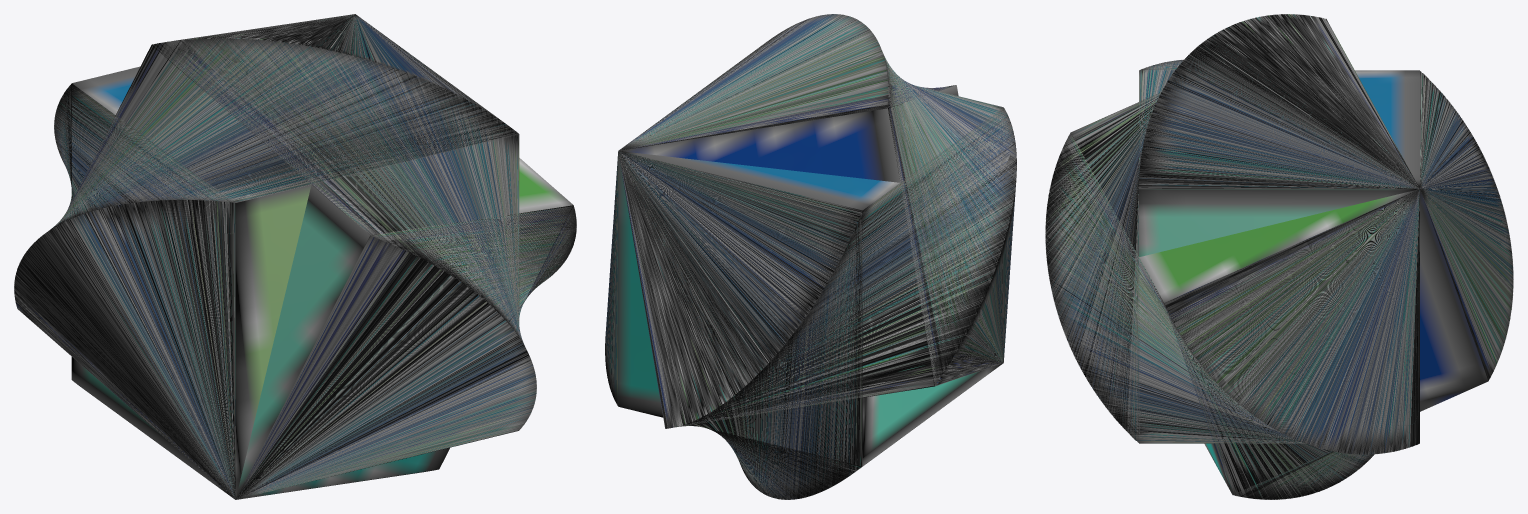
The model's file is rotatedCube.obj.
The picture shows the model from 3 angles, left to right: view 1: azimuth 30°, elevation 25°; view 2: azimuth 150°, elevation 25°; view 3: azimuth 270°, elevation 25°; orthographic projection. The views are drawn at different scales.
Parts seen in each view (by area): view 1: Cube; view 2: Cube; view 3: Cube.
Boxes of the visible parts, bbox=[...] form: Cube: bbox=[14, 14, 576, 499]; Cube: bbox=[605, 14, 1016, 499]; Cube: bbox=[1045, 14, 1513, 499].
Size of the model in its own units: 3.33 by 3.33 by 3.33.
